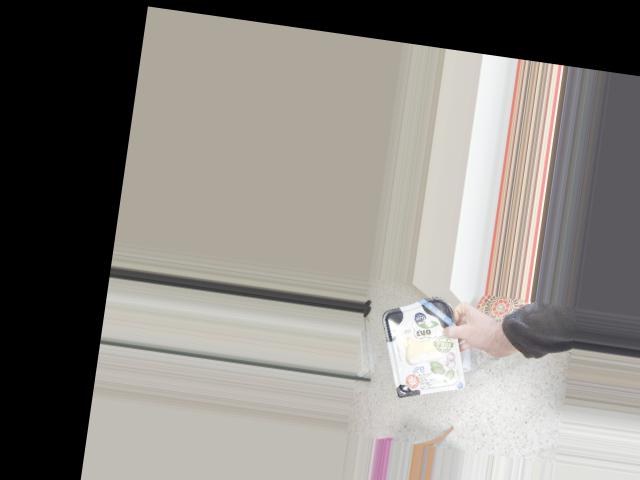cheese: (381, 298, 460, 397)
